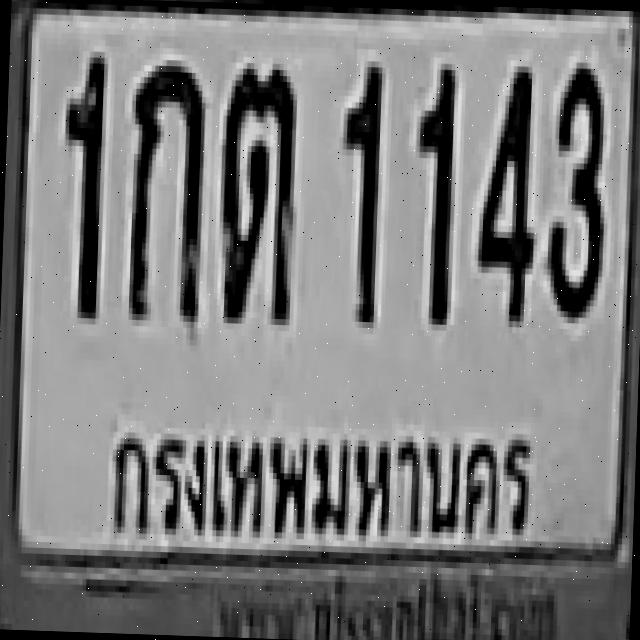1: (57, 50, 106, 318), (410, 60, 456, 322), (336, 60, 382, 322)
10GorGai: (125, 58, 206, 322)
3: (543, 61, 607, 318)
30TorTao: (216, 62, 294, 318)
4: (470, 59, 538, 321)
Bangkok: (97, 401, 545, 568)
